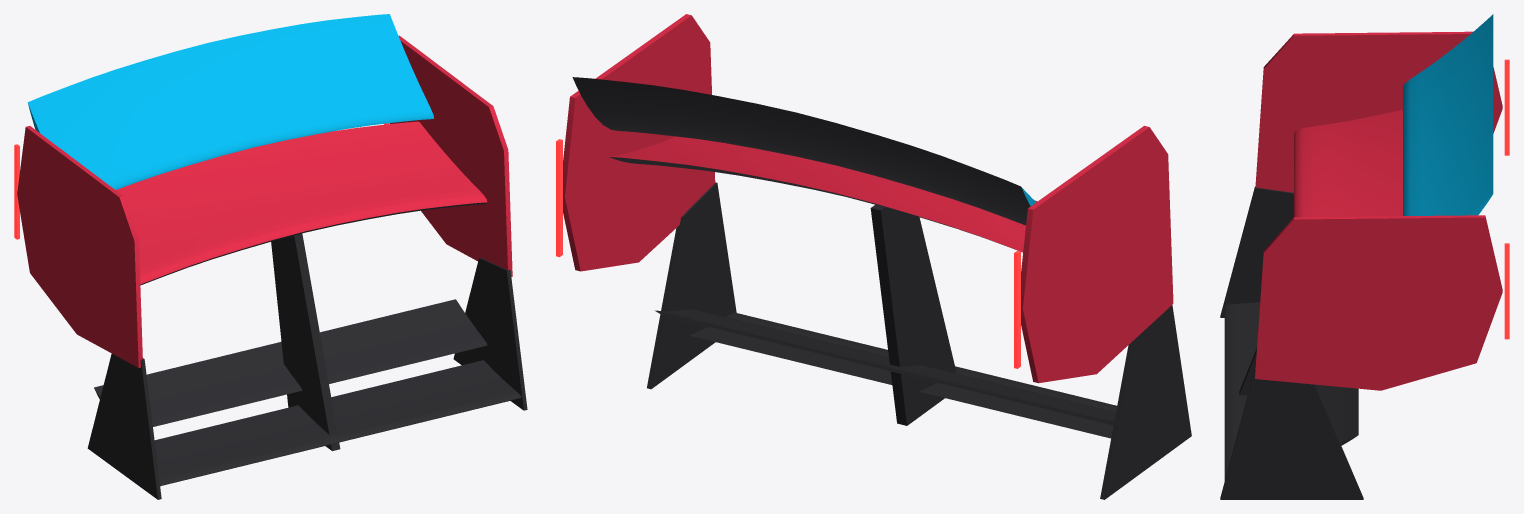
The model's file is highdf.glb.
The picture shows the model from 3 angles, left to right: view 1: azimuth 30°, elevation 25°; view 2: azimuth 150°, elevation 25°; view 3: azimuth 270°, elevation 25°; orthographic projection. The views are drawn at different scales.
Visible parts, largest first — view 1: RearWing_highdf, DRSFlap_highdf; view 2: RearWing_highdf, DRSFlap_highdf; view 3: RearWing_highdf, DRSFlap_highdf.
Boxes of the visible parts, <box> form: RearWing_highdf: <box>14,35,527,499</box>; DRSFlap_highdf: <box>27,14,433,189</box>; RearWing_highdf: <box>556,14,1191,499</box>; DRSFlap_highdf: <box>572,77,1036,225</box>; RearWing_highdf: <box>1220,31,1509,499</box>; DRSFlap_highdf: <box>1403,14,1493,215</box>.
Size of the model in its own units: 1.01 by 0.8122 by 0.666.
